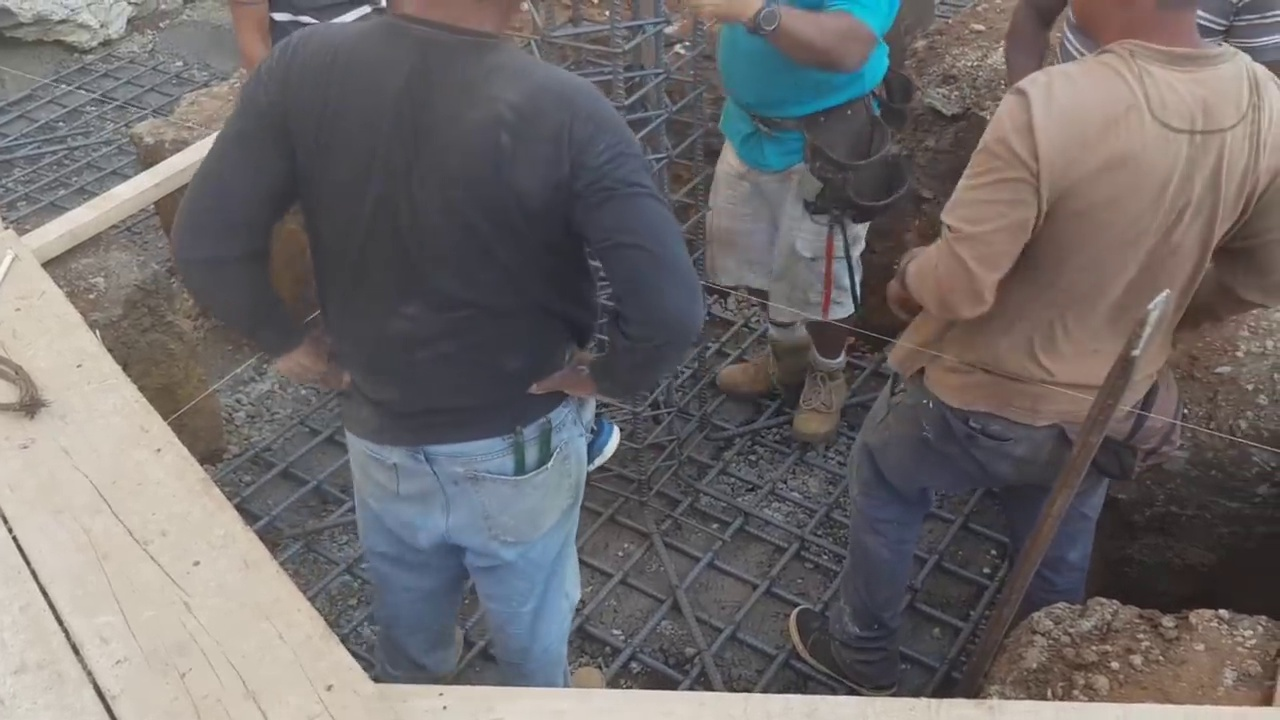person: (172, 2, 704, 690), (793, 3, 1280, 698), (698, 0, 904, 447)
